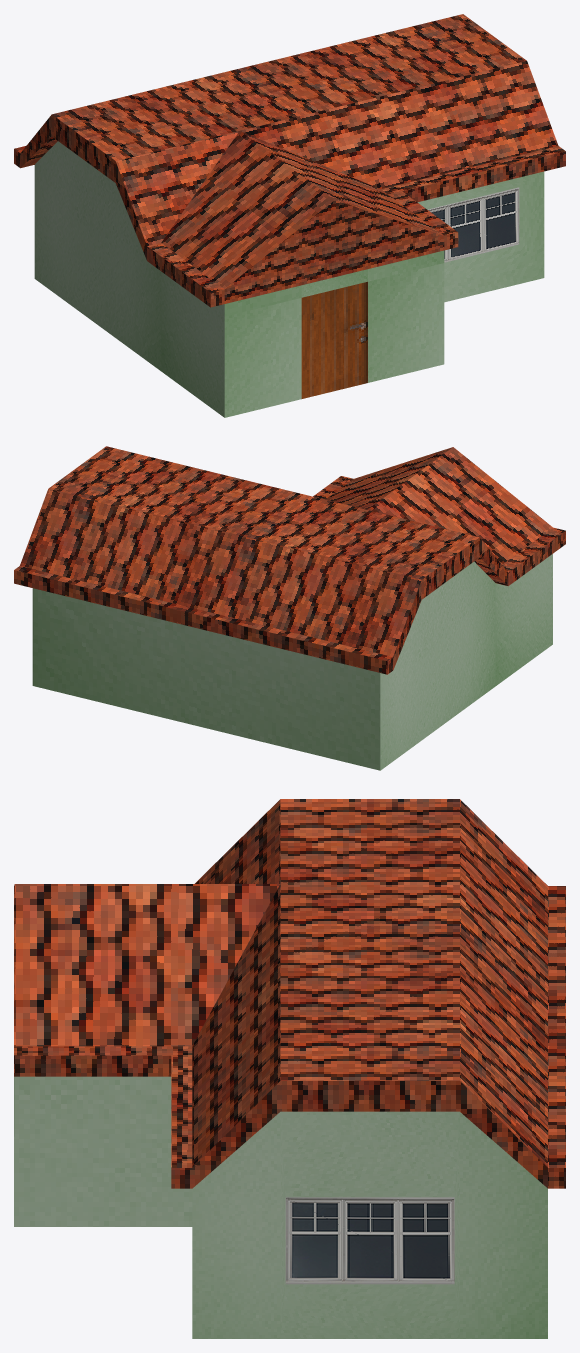
Rendered from house3.glb.
The picture shows the model from 3 angles, top to bottom: view 1: azimuth 30°, elevation 25°; view 2: azimuth 150°, elevation 25°; view 3: azimuth 270°, elevation 25°; orthographic projection. The views are drawn at different scales.
Parts seen in each view (by area): view 1: Cube.001; view 2: Cube.001; view 3: Cube.001.
Boxes of the visible parts, x1,y1,x2,y2 form: Cube.001: (14,14,565,417); Cube.001: (14,446,565,770); Cube.001: (14,799,565,1338).
Size of the model in its own units: 3.75 by 1.66 by 3.1.
Materials: 1 (1 with a texture image).
